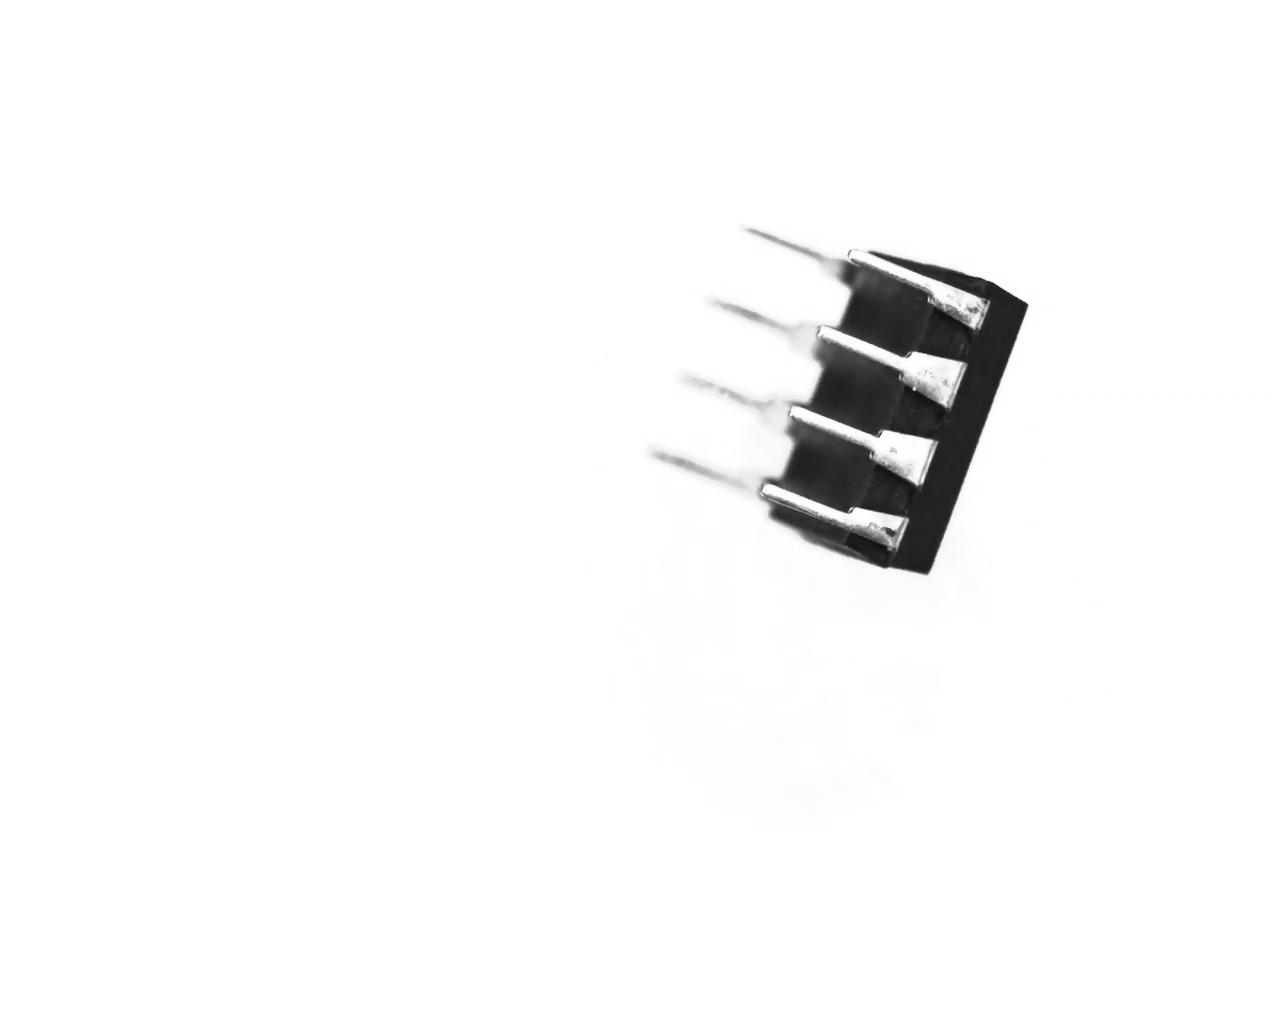Leg: (843, 246, 990, 349), (786, 400, 936, 498), (812, 320, 956, 420), (755, 478, 909, 567), (703, 284, 833, 367), (675, 362, 806, 443), (642, 433, 776, 511), (737, 217, 859, 293)
